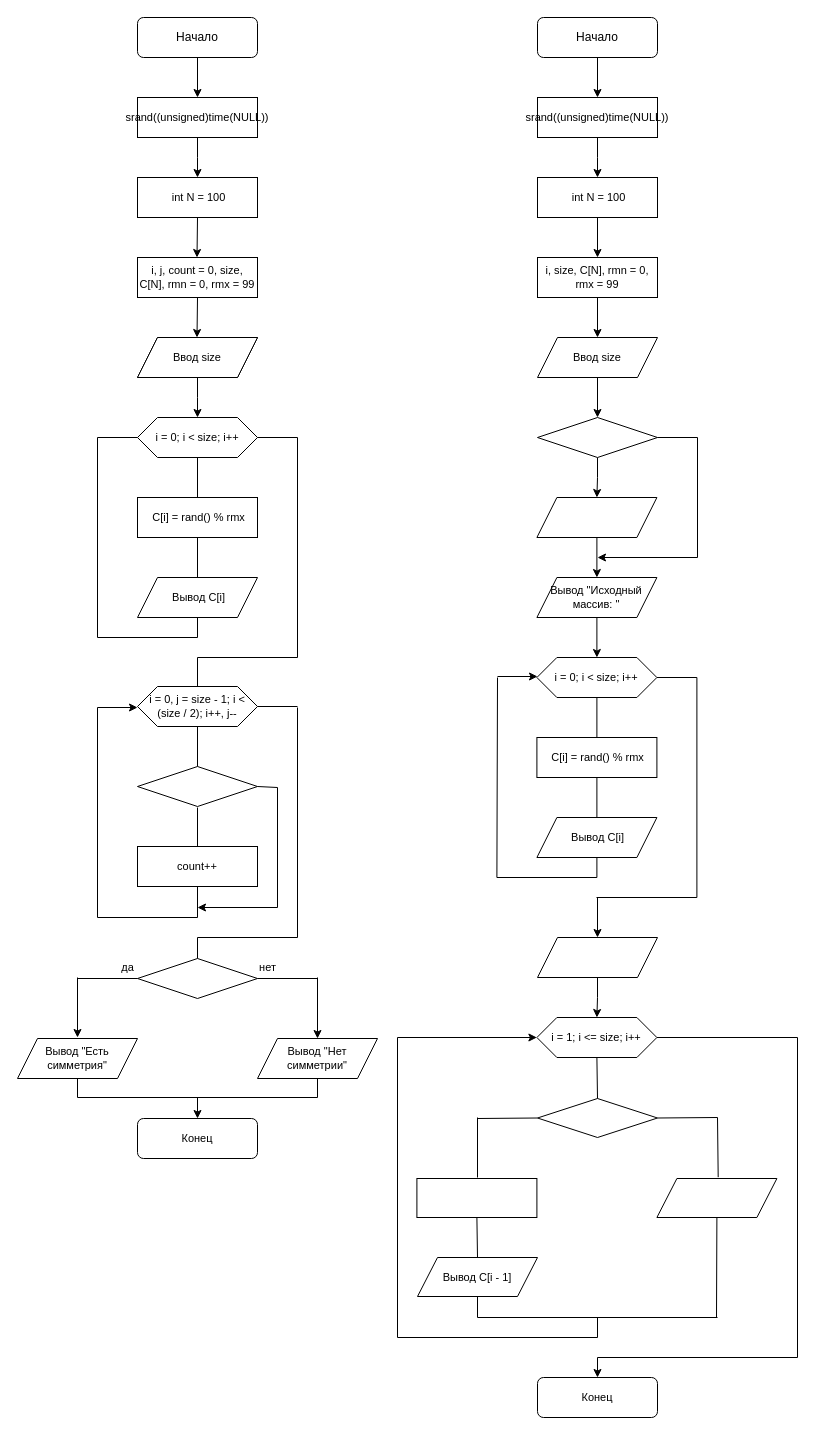
Some shapes in this 816 by 1435 pixel diagram are drawn without their labels. Here are the shapes that lost their labels. From the top down, the centre of each, then its label:
(597,437): size < 3
(596,517): Вывод "Не соответствует условию"
(197,786): C[i] == C[j]
(597,957): Вывод "Преобразование: "
(197,978): count == (size / 2)
(597,1118): i % 3 == 0
(476,1198): C[i - 1] = (C[i - 2] + C[i - 3]) / 2
(716,1198): Вывод C[i-1]
